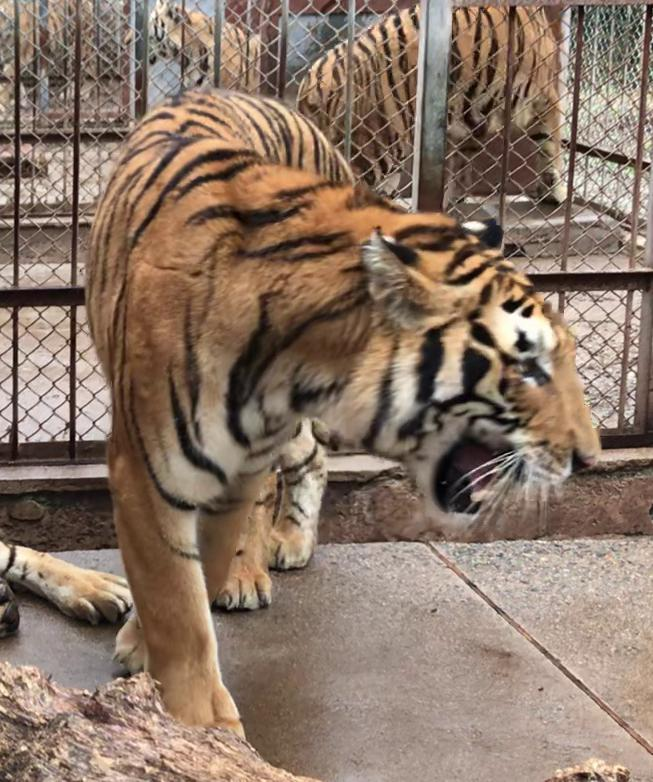tiger: (86, 89, 599, 731)
